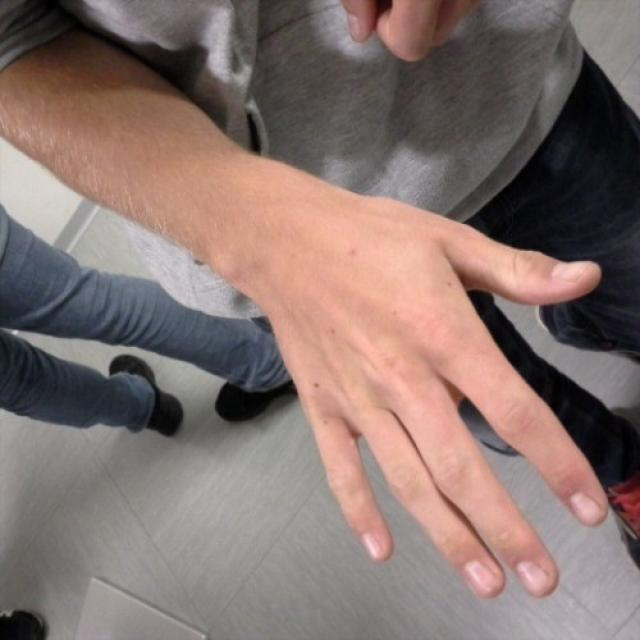paper: (290, 169, 608, 602)
